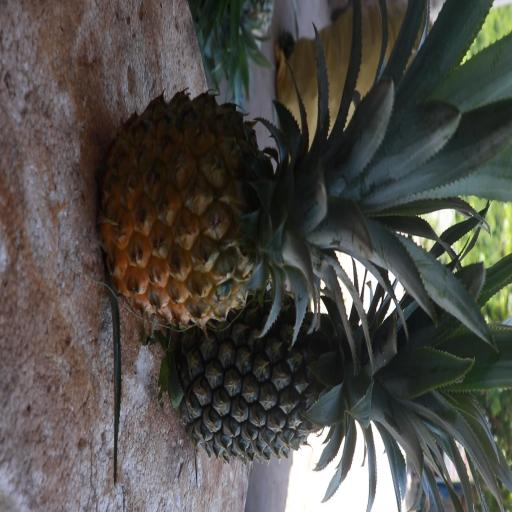Pineapple - v8 v1: (103, 93, 453, 318)
